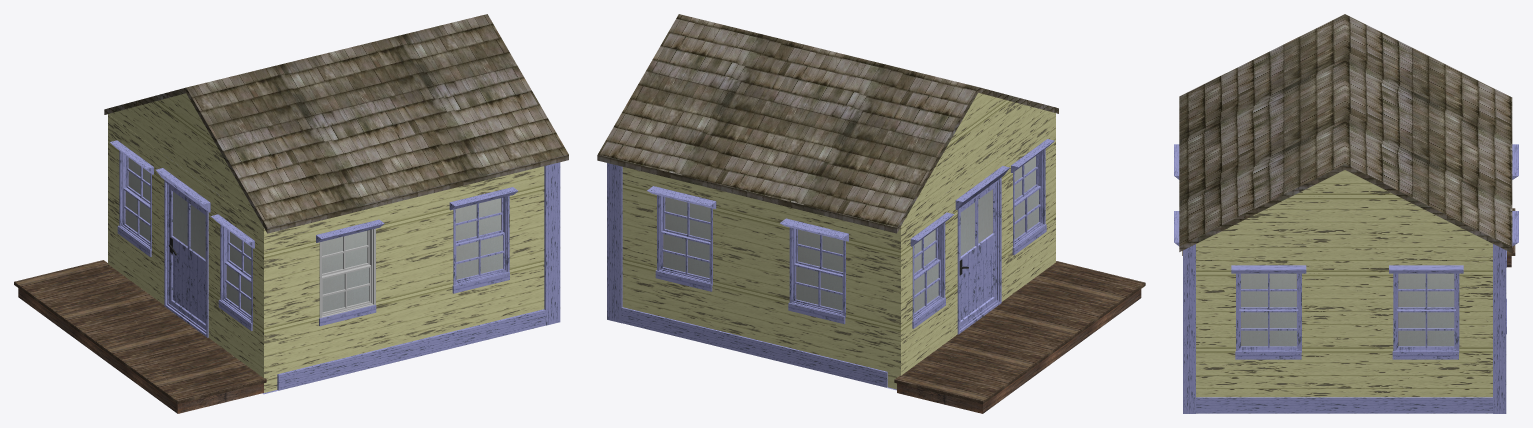
File: house.FBX
3 views of the same model, side by side, from view 1: azimuth 30°, elevation 25°; view 2: azimuth 150°, elevation 25°; view 3: azimuth 270°, elevation 25° (orthographic). The views are drawn at different scales.
Parts seen in each view (by area): view 1: BANK; view 2: BANK; view 3: BANK.
Part boxes in pixels (<box>): BANK: <box>14,14,568,413</box>; BANK: <box>597,14,1145,413</box>; BANK: <box>1174,14,1518,413</box>.
Bounding box in the file's own units: 410 × 247 × 305.
